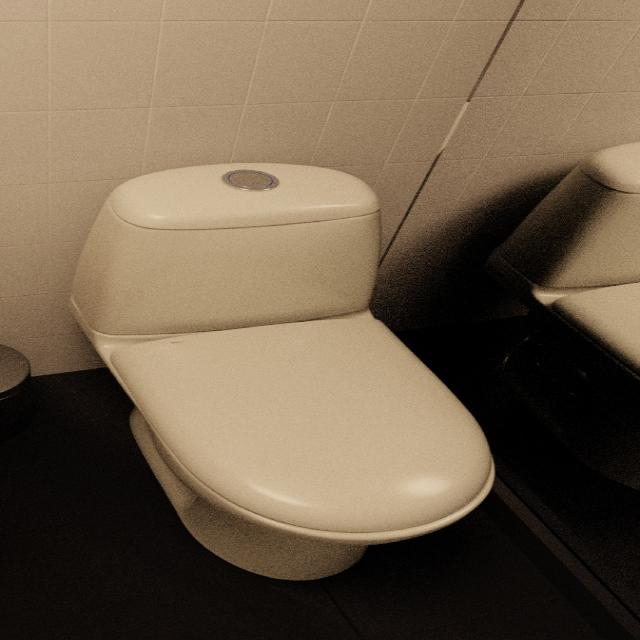toilet: (66, 161, 496, 581)
